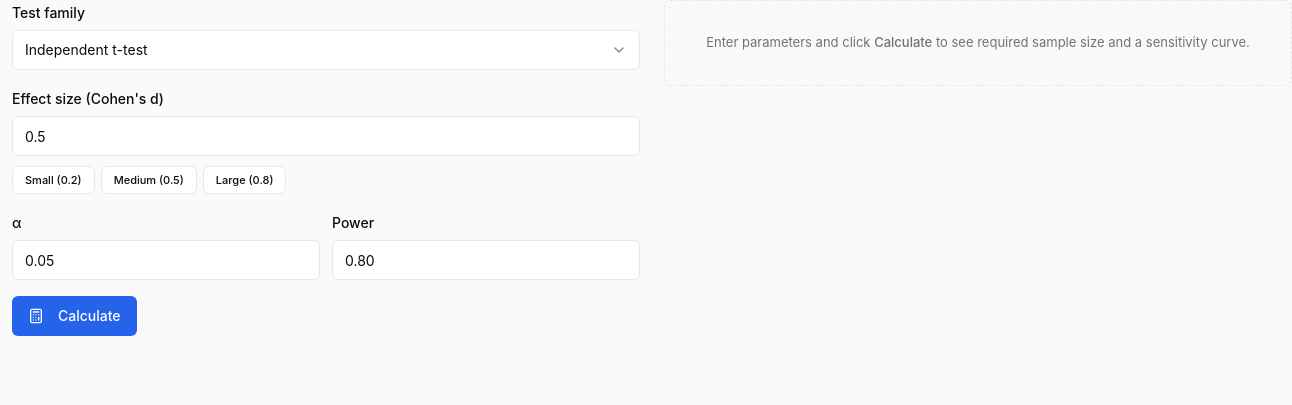
Scenario: PowerCalculator — form validation › rejects α ≥ 1
This screenshot has width=1292, height=405.
Replace the text in the number field labelled "α" with "2" at (166, 260), box [12,240,320,280]
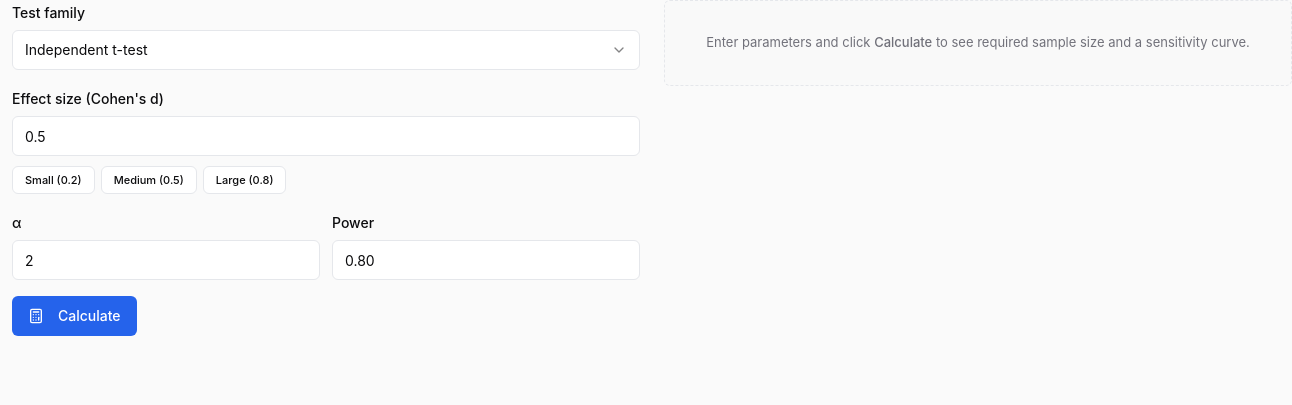
Click the button "Calculate".
click(74, 316)  # box [12,296,137,336]
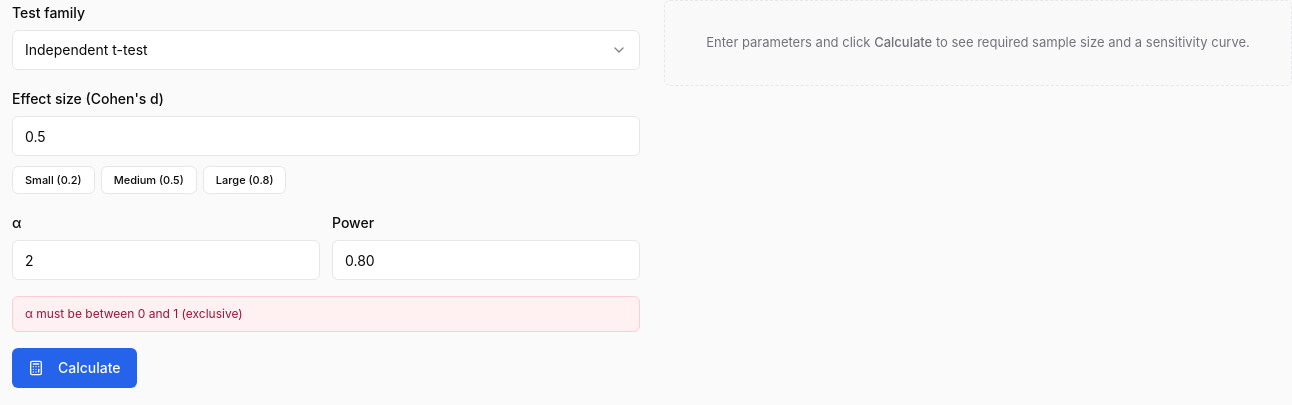
Check: the message shows "α", box [25,306,243,321]
